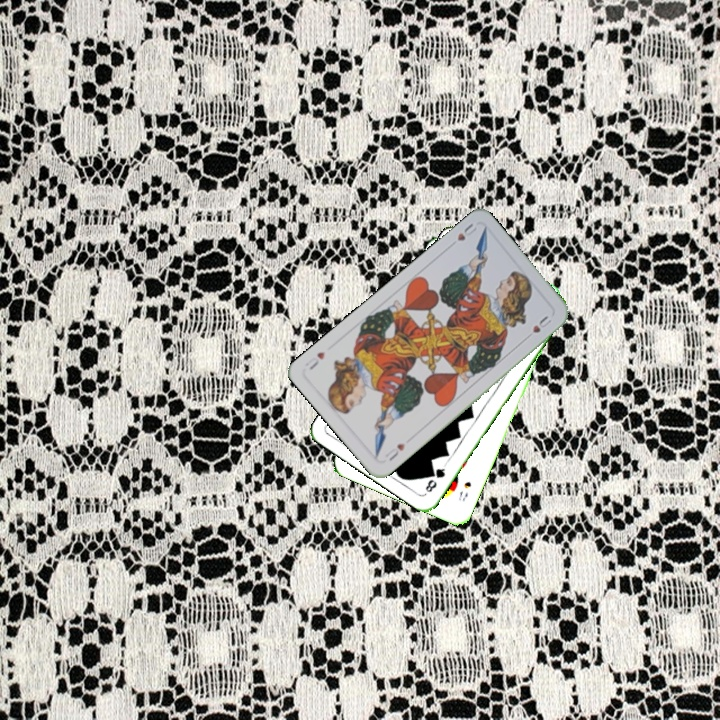G8: (421, 460, 449, 495)
HU: (381, 439, 408, 464), (453, 219, 479, 243)
S8: (455, 477, 474, 504)
